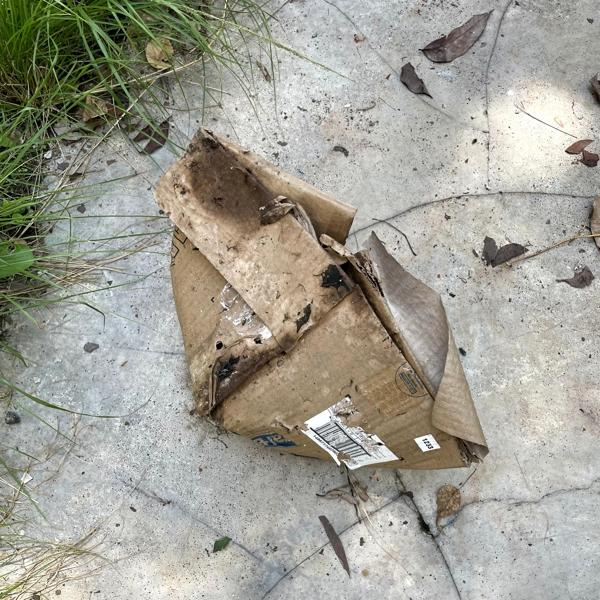Organik: (164, 116, 477, 493)
